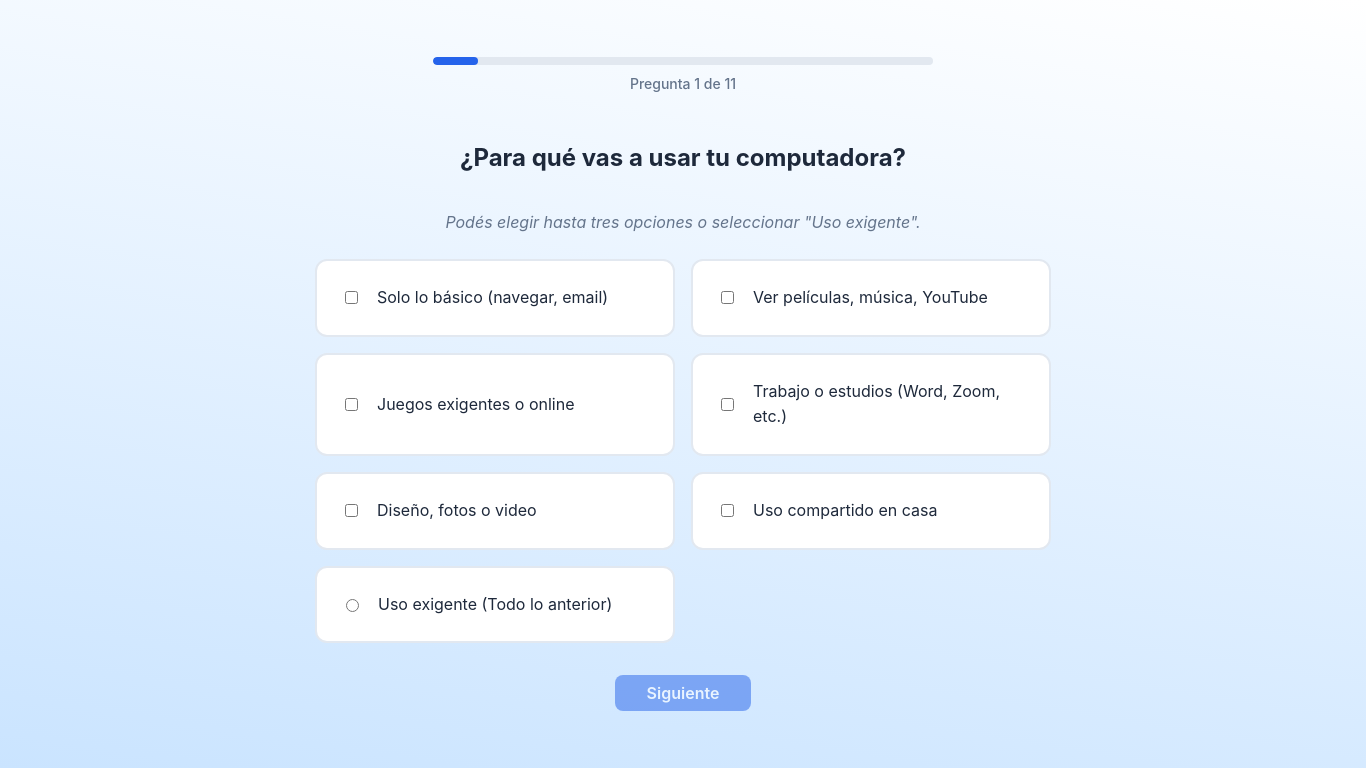
Scenario: Recommendation — Quiz flow › next button is enabled after selection
Click the checkbox labelled "Solo lo básico (navegar, email)": [352, 298] box top-left (345, 292), bottom-right (358, 304)
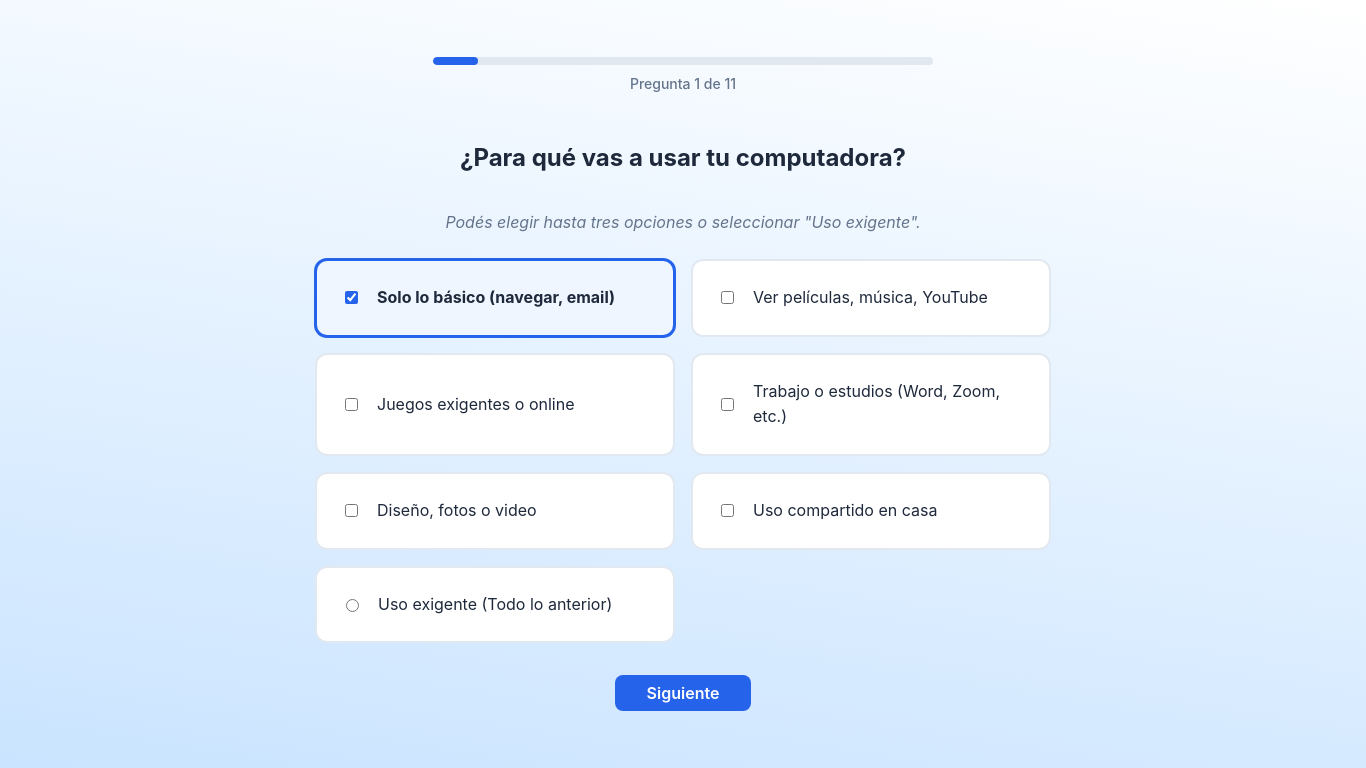
Expected: the button "Siguiente" is enabled, top-left (615, 675), bottom-right (751, 711)
